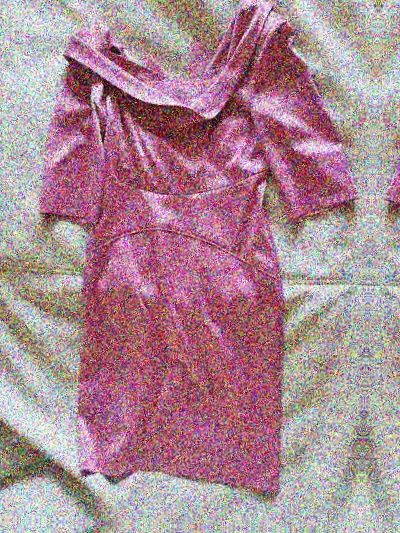Dress: (9, 0, 368, 504), (372, 11, 400, 517)
